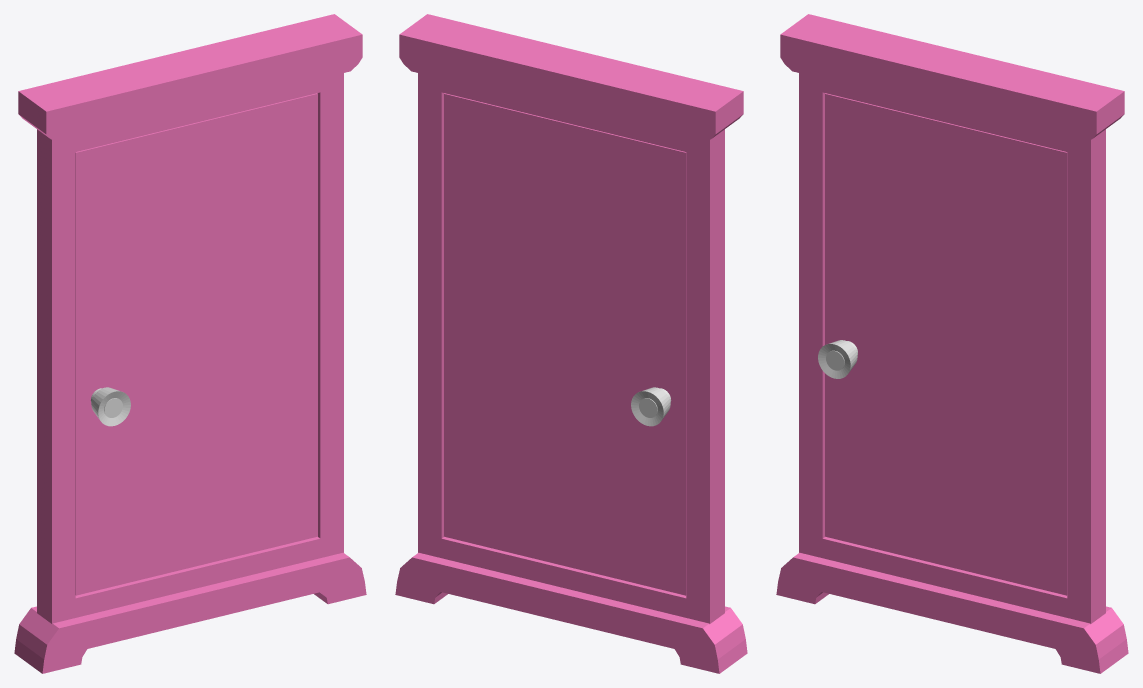
File: asset.glb
The picture shows the model from 3 angles, left to right: view 1: azimuth 30°, elevation 25°; view 2: azimuth 150°, elevation 25°; view 3: azimuth 330°, elevation 25°; orthographic projection.
Parts seen in each view (by area): view 1: DOOR, DOOR_BODY, 円柱.001; view 2: DOOR, DOOR_BODY, 円柱.001; view 3: DOOR, DOOR_BODY, 円柱.001.
Part boxes in pixels (left/top/right/bottom): DOOR: left=75, top=93, right=317, bottom=595; DOOR_BODY: left=14, top=14, right=366, bottom=673; 円柱.001: left=90, top=387, right=130, bottom=426; DOOR: left=444, top=93, right=686, bottom=595; DOOR_BODY: left=395, top=14, right=747, bottom=673; 円柱.001: left=631, top=387, right=671, bottom=426; DOOR: left=825, top=93, right=1067, bottom=595; DOOR_BODY: left=776, top=14, right=1128, bottom=673; 円柱.001: left=818, top=340, right=857, bottom=378.
Size of the model in its own units: 1 by 1.65 by 0.226.
